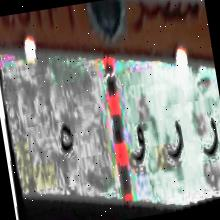5: (50, 111, 80, 164)
raa: (194, 112, 220, 166), (161, 112, 187, 166)
waw: (125, 116, 151, 176)
